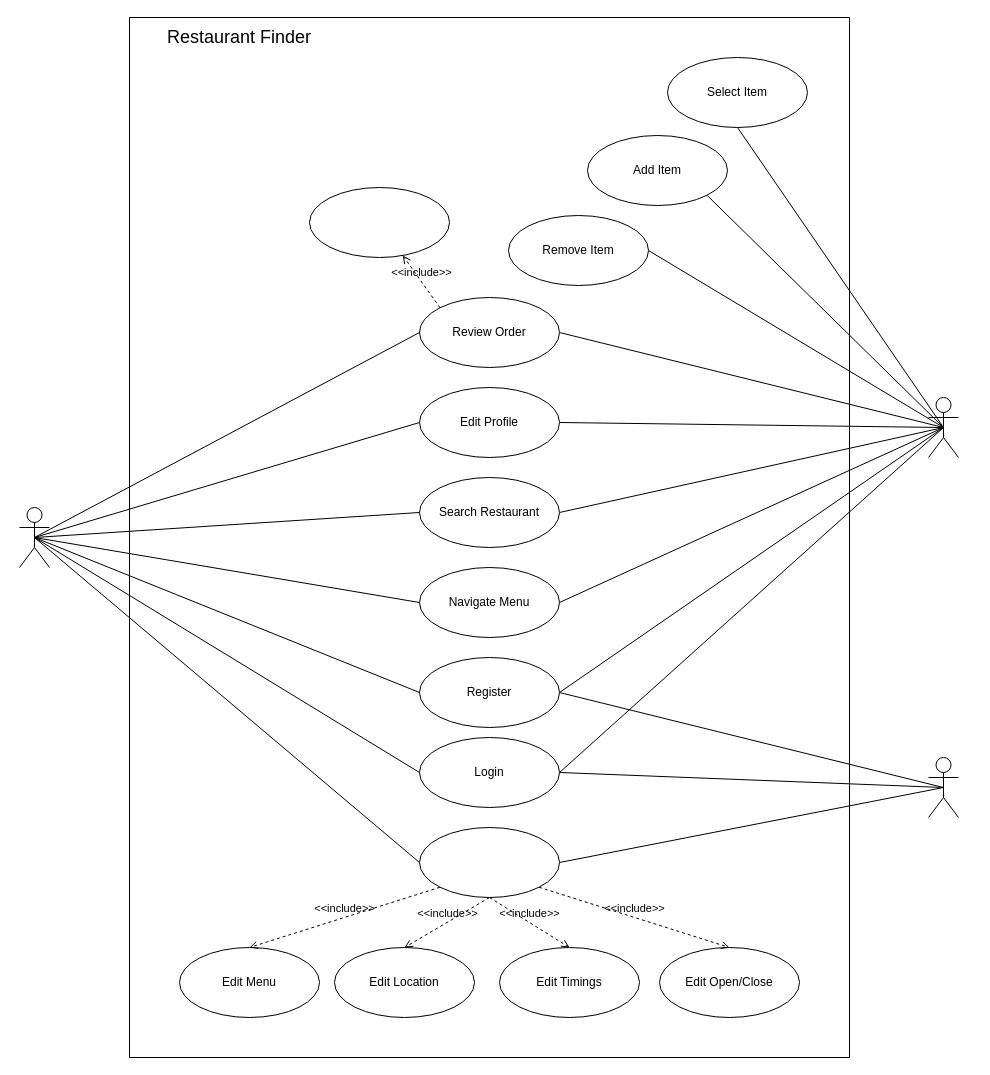
This 990x1075 diagram has some shape labels left out. Each missing label, with the centre of its shape:
"Admin" goes at point 34,537.
"Calculate Price" goes at point 379,222.
"Edit Restaurant Details" goes at point 489,862.
"Restaurant" goes at point 943,787.
"User" goes at point 943,427.
